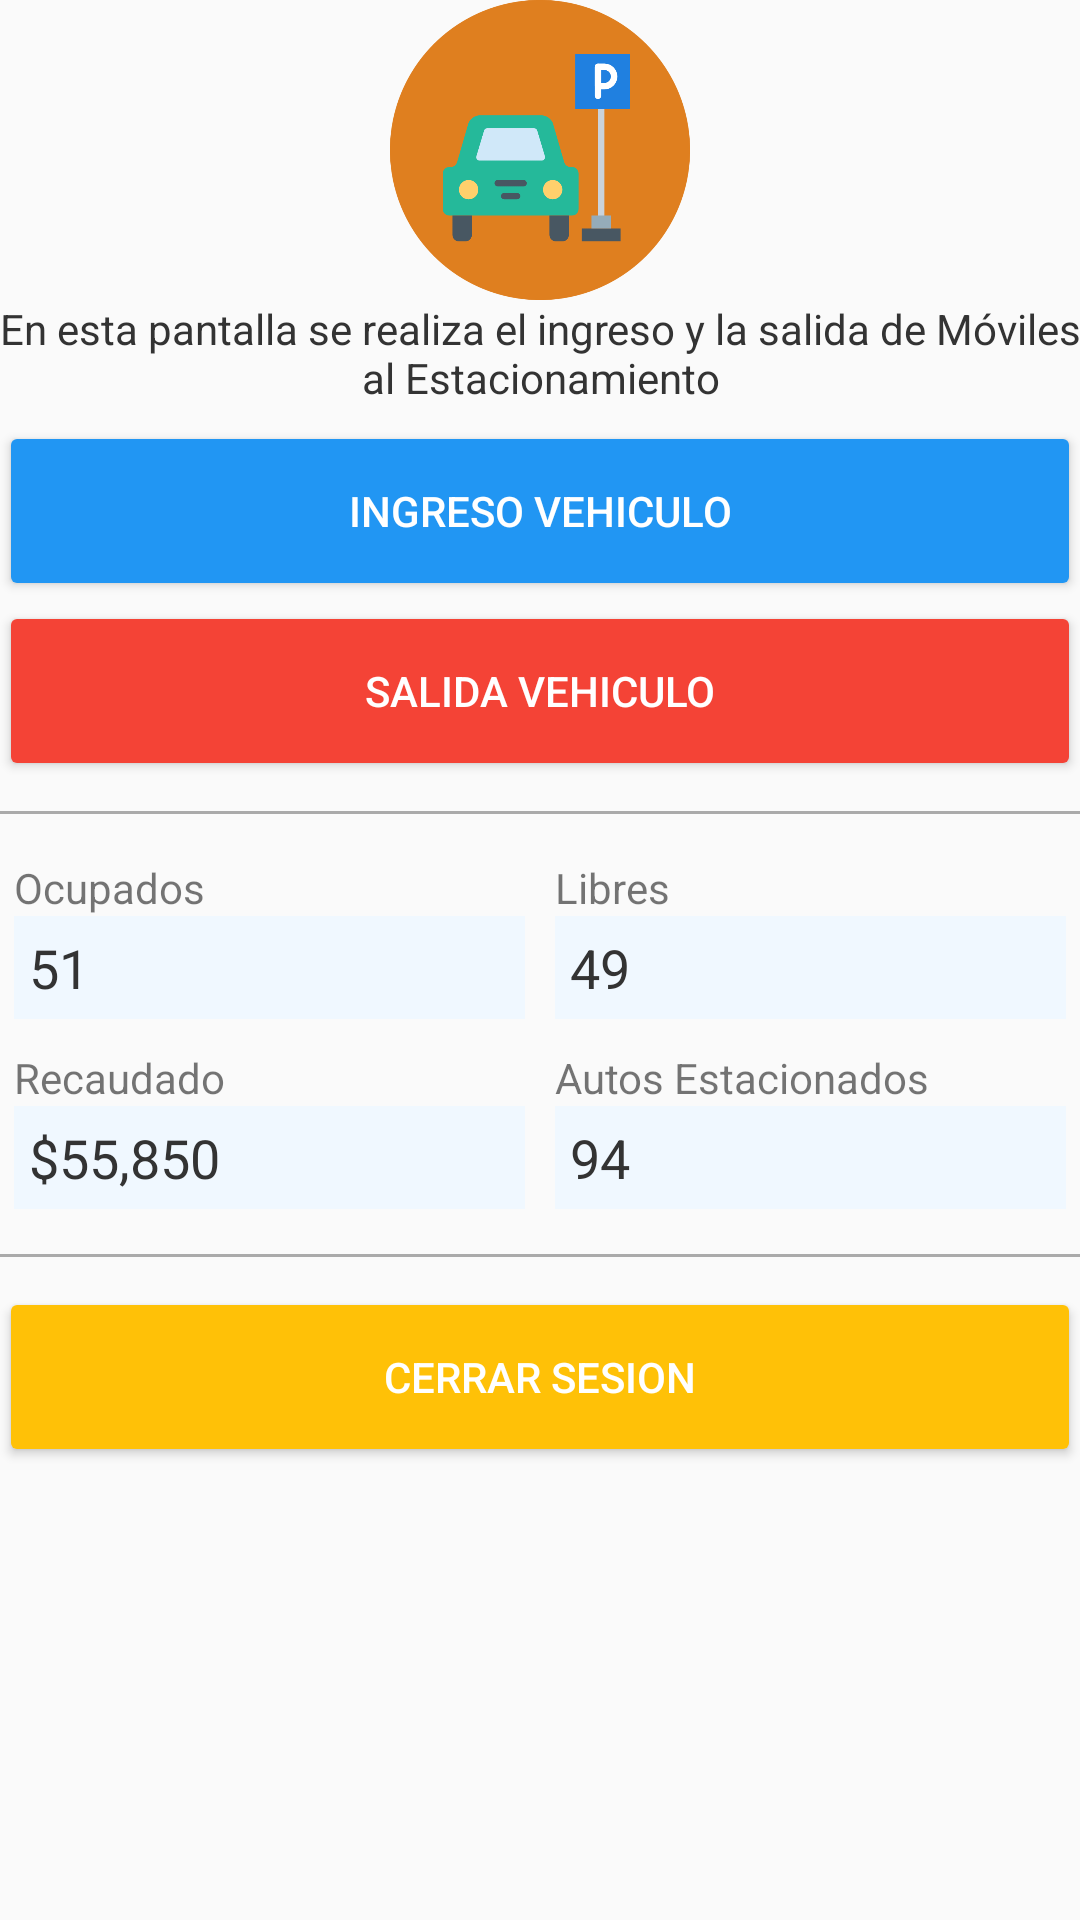

Named icons in this screenshot (1080px×1920px) and their bounding boxes, [x1=x1, y1=y1, x2=x2, y2=y2]:
appicon: [x1=390, y1=0, x2=690, y2=300]
